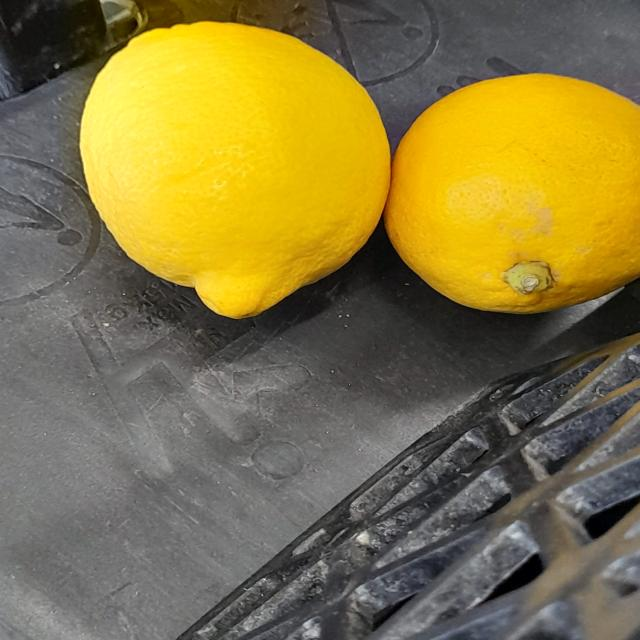lemon: (72, 21, 394, 326), (398, 59, 640, 334)
